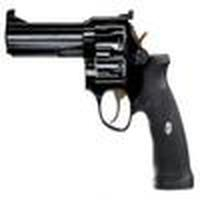gun: (4, 14, 200, 179)
